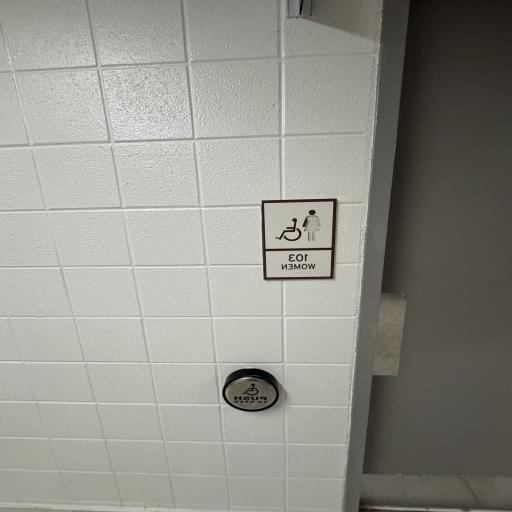door: (387, 14, 512, 512)
handicap push button: (210, 363, 284, 418)
women bathroom sign: (257, 195, 338, 283)
